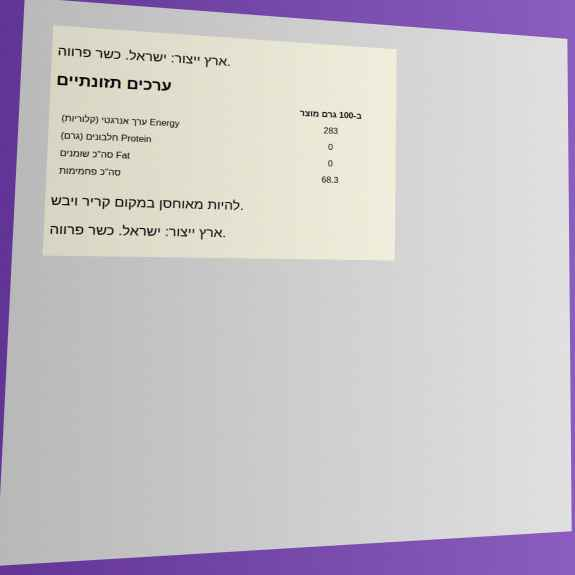carbs: (320, 174, 340, 186)
energy: (322, 125, 339, 137)
fat: (327, 158, 334, 169)
protein: (327, 142, 334, 153)
